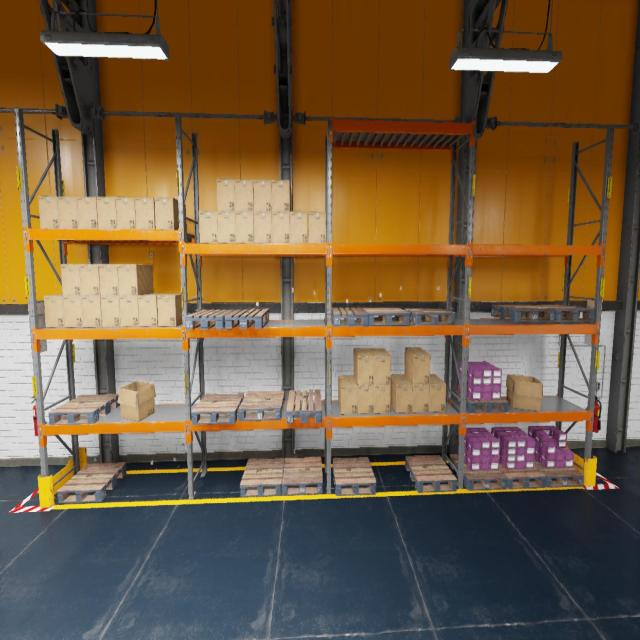box: (117, 381, 156, 422), (506, 374, 543, 411), (154, 198, 187, 232), (118, 264, 153, 295), (157, 294, 188, 326), (404, 374, 430, 412), (138, 294, 168, 326), (404, 348, 430, 383), (390, 375, 412, 413), (369, 348, 391, 384), (338, 375, 357, 414), (354, 377, 374, 414), (354, 348, 374, 384), (77, 196, 98, 229), (96, 196, 117, 228), (39, 196, 60, 228), (44, 294, 64, 327), (58, 196, 78, 229), (81, 296, 102, 327), (429, 374, 446, 412), (80, 264, 100, 296), (61, 264, 81, 296), (135, 197, 155, 229), (116, 196, 136, 228), (198, 211, 218, 243), (100, 296, 120, 327), (63, 296, 83, 327), (99, 264, 119, 295), (272, 180, 291, 212), (253, 180, 272, 212), (216, 179, 235, 211), (119, 296, 139, 326), (235, 179, 253, 212), (235, 212, 254, 243), (217, 212, 236, 243), (308, 212, 326, 244), (290, 212, 308, 243), (254, 212, 272, 243), (272, 212, 290, 243), (374, 385, 391, 413)
pallets: (57, 462, 126, 503), (48, 394, 120, 425), (449, 454, 506, 491), (405, 454, 457, 492), (240, 458, 284, 497), (332, 457, 376, 495), (191, 394, 244, 424), (282, 457, 323, 495), (451, 387, 508, 413), (534, 459, 584, 488), (238, 390, 284, 420), (286, 389, 322, 423), (499, 463, 545, 489), (528, 305, 594, 321), (491, 305, 555, 321), (185, 310, 236, 330), (225, 309, 269, 329), (404, 308, 455, 325), (363, 308, 410, 325), (332, 308, 368, 326)
